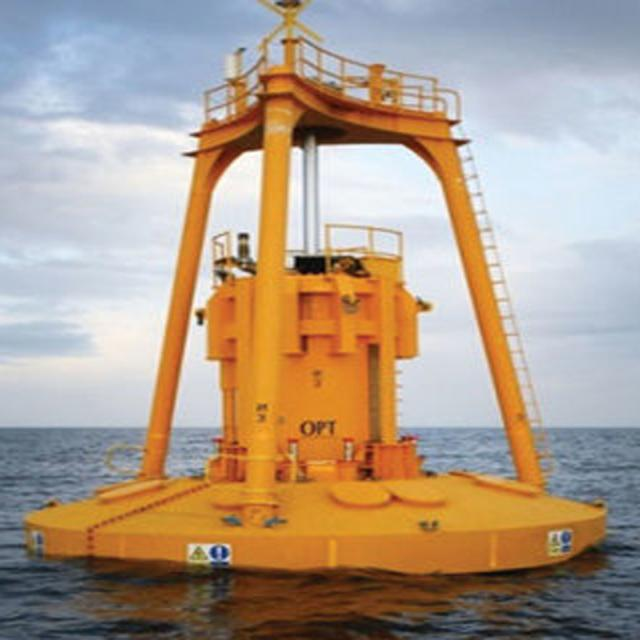buoy: (29, 0, 608, 573)
